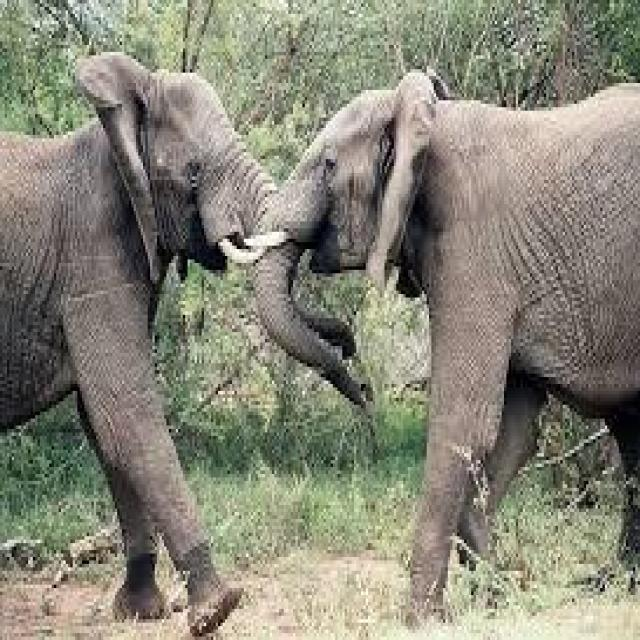Elephant: (258, 62, 638, 637), (0, 49, 284, 636)
